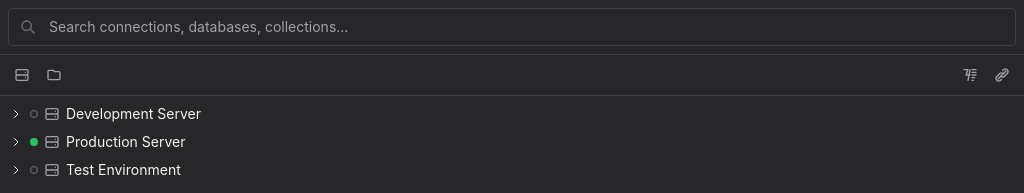
Test case: Sidebar Search › shows "No matching connections" when search has no results
Type something that doesn't match anything
Type "zzznomatch" into the field with placeholder "Search connections, databases, collections..." at (512, 27), box [8,8,1016,46]
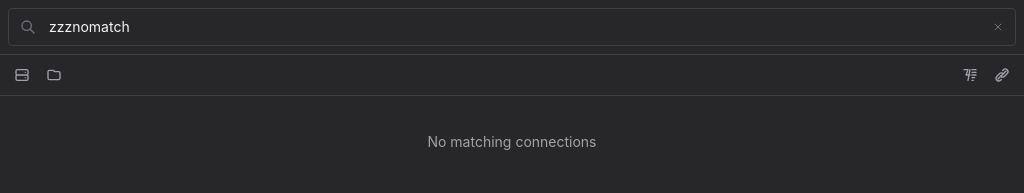
Expected: the text "No matching connections" is shown, [428,132,596,152]
